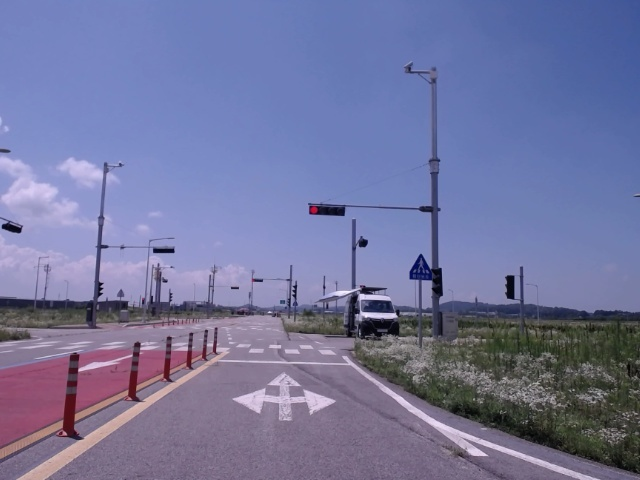red_4: (309, 205, 346, 216)
